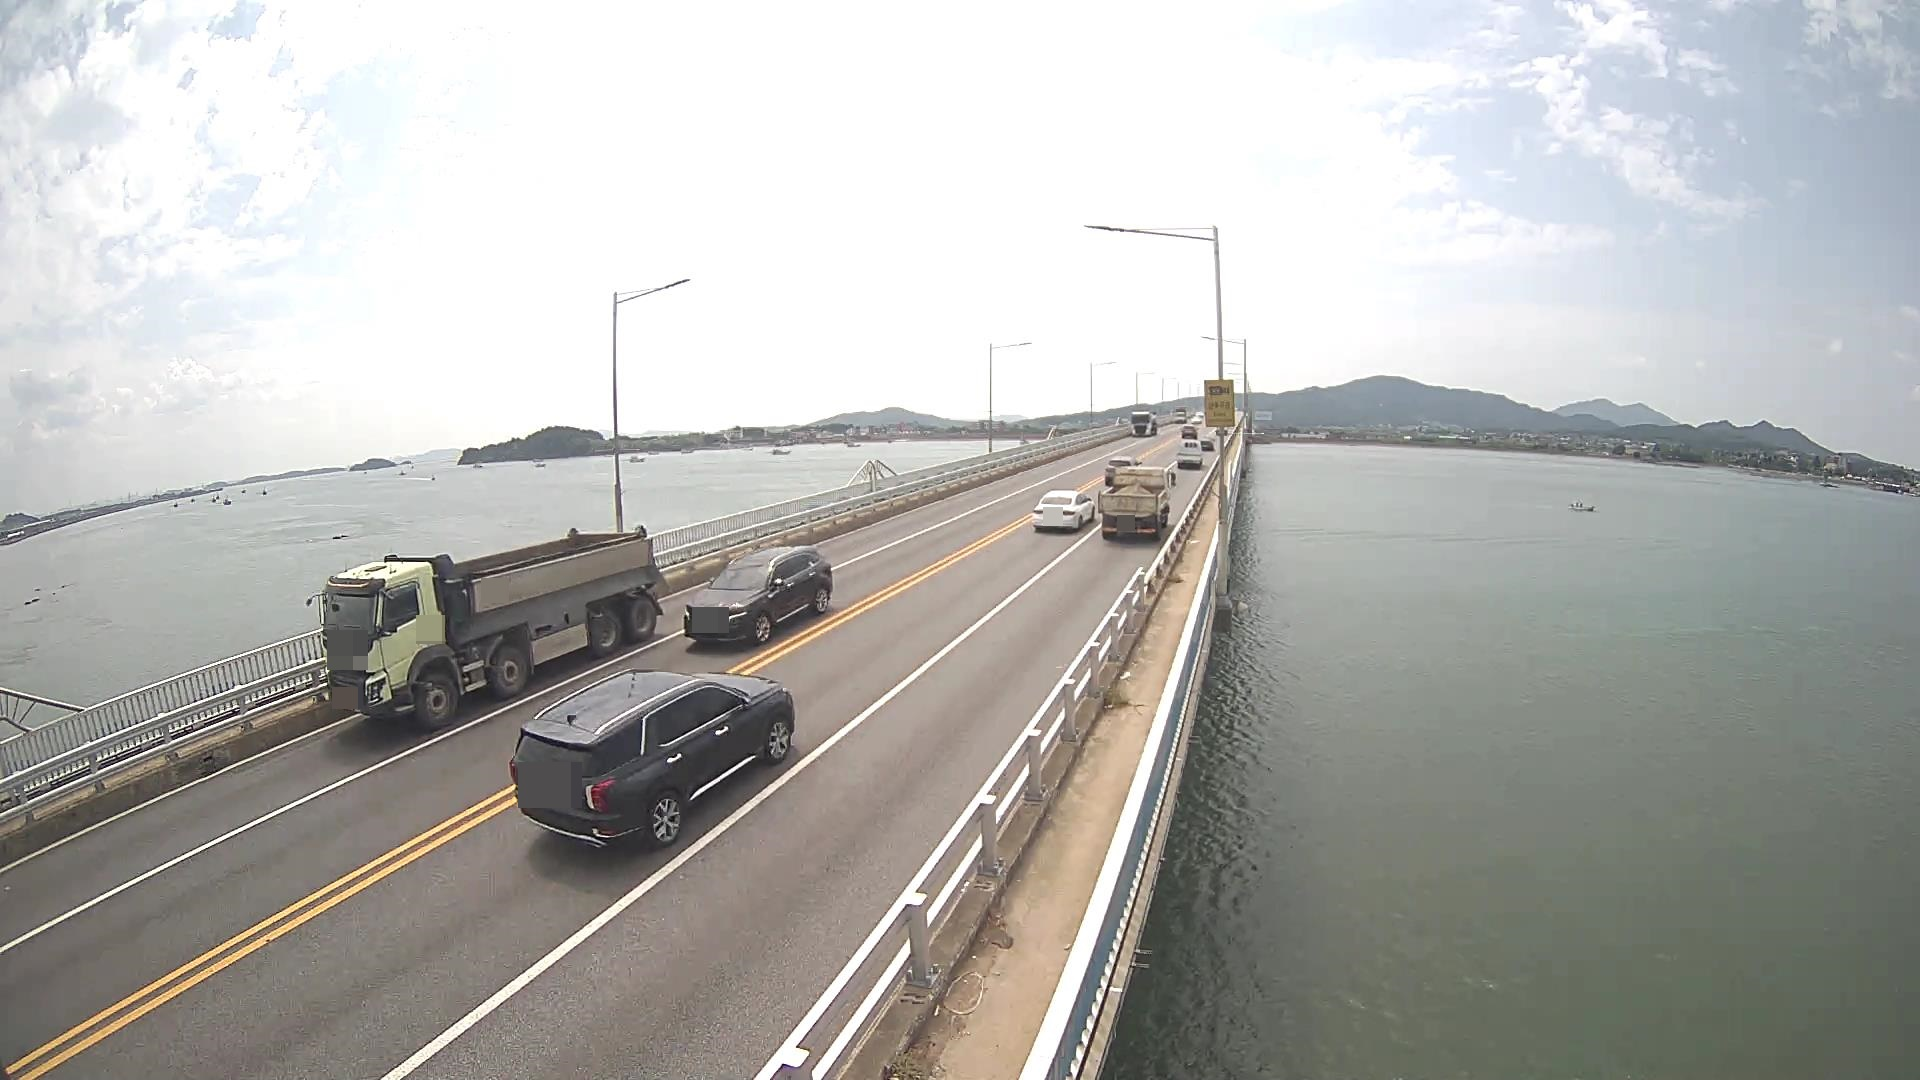정상차량: (306, 524, 665, 732)
